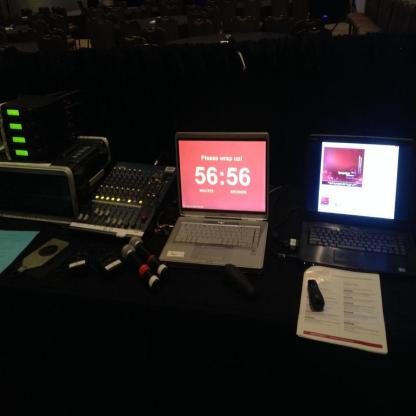board: (159, 130, 271, 288), (297, 135, 416, 282)
